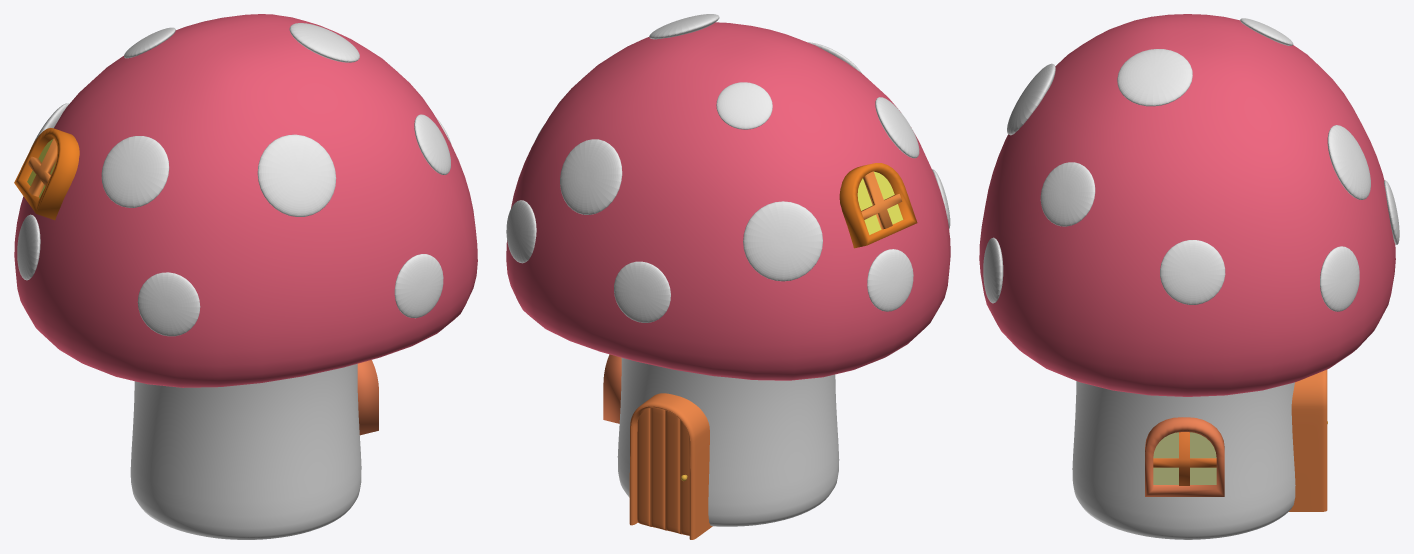
Rendered from mushroom.fbx.
3 views of the same model, side by side, from view 1: azimuth 30°, elevation 25°; view 2: azimuth 150°, elevation 25°; view 3: azimuth 270°, elevation 25° (orthographic). The views are drawn at different scales.
Parts seen in each view (by area): view 1: Cube, Cylinder, Sphere.007, Sphere.005, Sphere.006, Cube.006, Sphere.008, Sphere.011, Cube.003, Sphere.010, Sphere.004, Cube.007 (+1 smaller); view 2: Cube, Cylinder, Cube.001, Sphere.003, Sphere.001, Cube.006, Sphere.002, Sphere.004, Sphere.014, Sphere, Sphere.005, Cube.003 (+3 smaller); view 3: Cube, Cylinder, Cube.001, Sphere.011, Sphere.013, Cube.003, Sphere.010, Sphere.001, Sphere, Cube.005, Sphere.007, Cube.004 (+3 smaller).
Boxes of the visible parts, bbox=[...] form: Cube: bbox=[14, 14, 477, 387]; Cylinder: bbox=[130, 363, 361, 539]; Sphere.007: bbox=[257, 134, 336, 216]; Sphere.005: bbox=[101, 136, 169, 207]; Sphere.006: bbox=[137, 272, 200, 336]; Cube.006: bbox=[14, 128, 79, 220]; Sphere.008: bbox=[394, 254, 443, 318]; Sphere.011: bbox=[289, 23, 359, 62]; Cube.003: bbox=[357, 360, 378, 435]; Sphere.010: bbox=[414, 114, 450, 174]; Sphere.004: bbox=[17, 214, 40, 280]; Cube.007: bbox=[28, 138, 57, 196]; Cube: bbox=[506, 22, 950, 380]; Cylinder: bbox=[617, 357, 839, 526]; Cube.001: bbox=[629, 393, 712, 539]; Sphere.003: bbox=[743, 201, 822, 281]; Sphere.001: bbox=[560, 139, 622, 214]; Cube.006: bbox=[839, 163, 917, 248]; Sphere.002: bbox=[614, 261, 670, 322]; Sphere.004: bbox=[867, 249, 913, 311]; Sphere.014: bbox=[716, 82, 772, 129]; Sphere: bbox=[506, 200, 536, 263]; Sphere.005: bbox=[875, 97, 919, 158]; Cube.003: bbox=[603, 354, 621, 423]; Cube: bbox=[979, 14, 1395, 396]; Cylinder: bbox=[1072, 381, 1295, 539]; Cube.001: bbox=[1289, 369, 1327, 511]; Sphere.011: bbox=[1117, 49, 1192, 106]; Sphere.013: bbox=[1160, 240, 1225, 304]; Cube.003: bbox=[1145, 417, 1224, 496]; Sphere.010: bbox=[1040, 162, 1095, 226]; Sphere.001: bbox=[1327, 125, 1370, 199]; Sphere: bbox=[1320, 246, 1359, 311]; Cube.005: bbox=[1153, 432, 1216, 484]; Sphere.007: bbox=[1007, 63, 1055, 135]; Cube.004: bbox=[1153, 432, 1216, 485].
Bounding box in the file's own units: 385 × 423 × 347.
